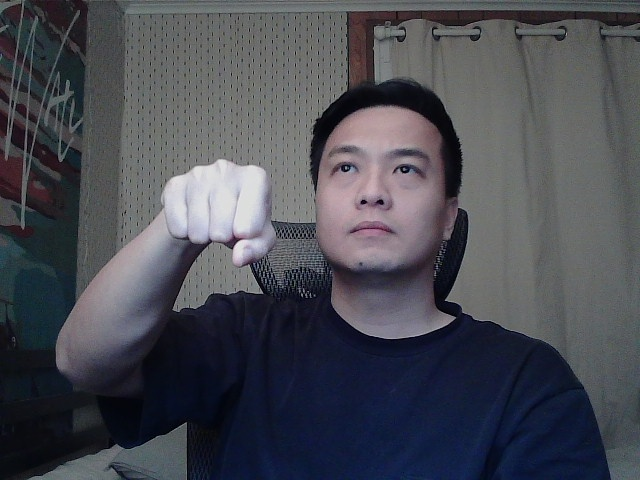Yes: (148, 149, 297, 269)
